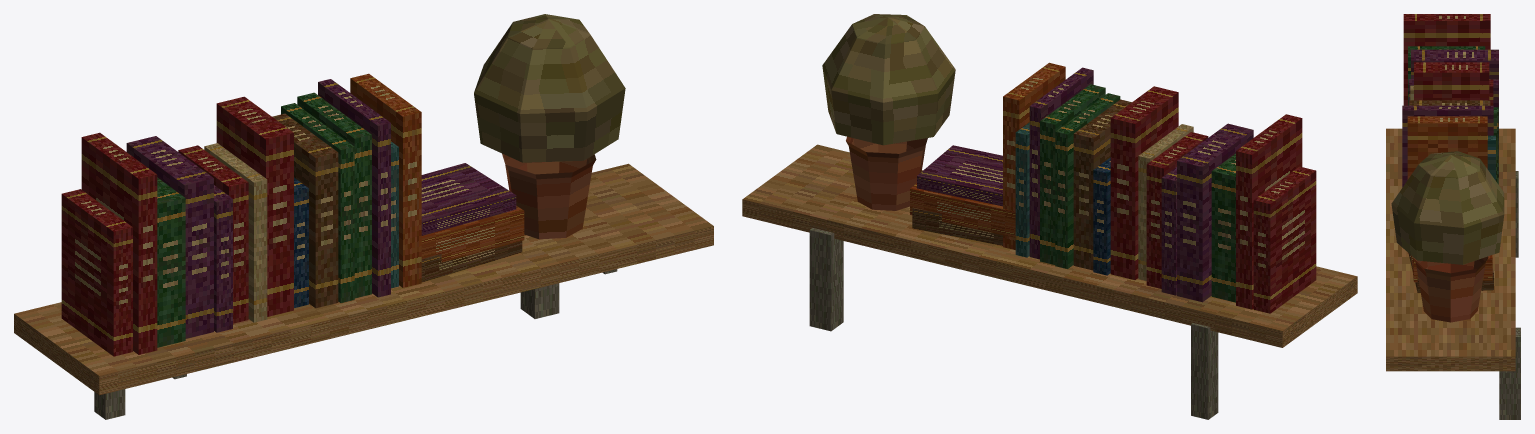
File: WallShelf_Horror.fbx
The picture shows the model from 3 angles, left to right: view 1: azimuth 30°, elevation 25°; view 2: azimuth 150°, elevation 25°; view 3: azimuth 270°, elevation 25°; orthographic projection. The views are drawn at different scales.
Visible parts, largest first — view 1: WallShelf.001; view 2: WallShelf.001; view 3: WallShelf.001.
Part boxes in pixels (bbox=[...]): WallShelf.001: bbox=[14, 14, 713, 419]; WallShelf.001: bbox=[742, 14, 1357, 419]; WallShelf.001: bbox=[1386, 14, 1520, 419].
Bounding box in the file's own units: 100 × 51 × 25.
